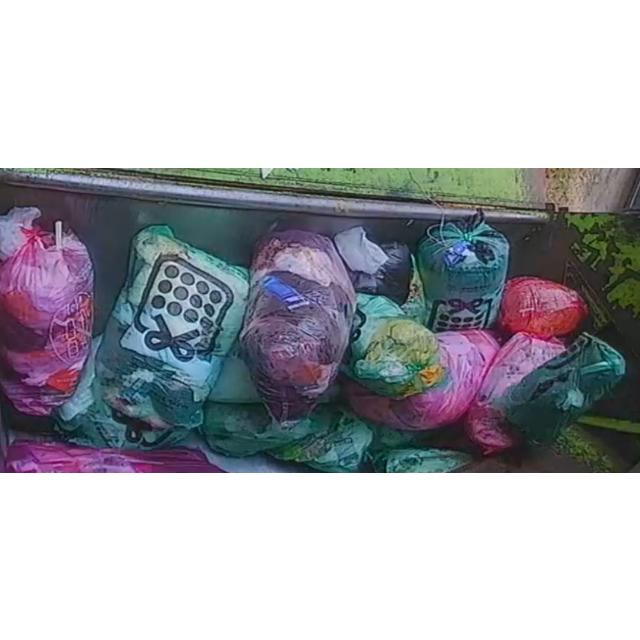general_trashbag: (96, 224, 249, 428), (501, 332, 625, 443), (418, 211, 509, 331), (344, 292, 444, 397)
other_trashbag: (240, 228, 356, 421), (0, 206, 94, 415), (342, 330, 500, 430), (465, 332, 566, 453), (499, 276, 588, 336)
